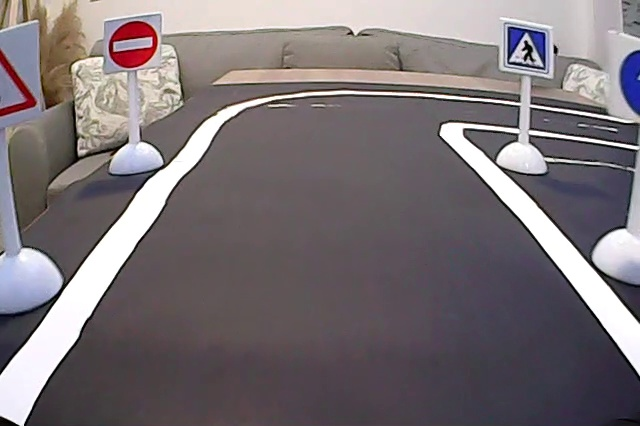do not enter: (107, 16, 160, 70)
pedestrian crossing: (502, 22, 550, 74)
